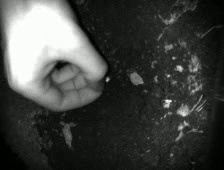corn: (102, 74, 112, 83)
